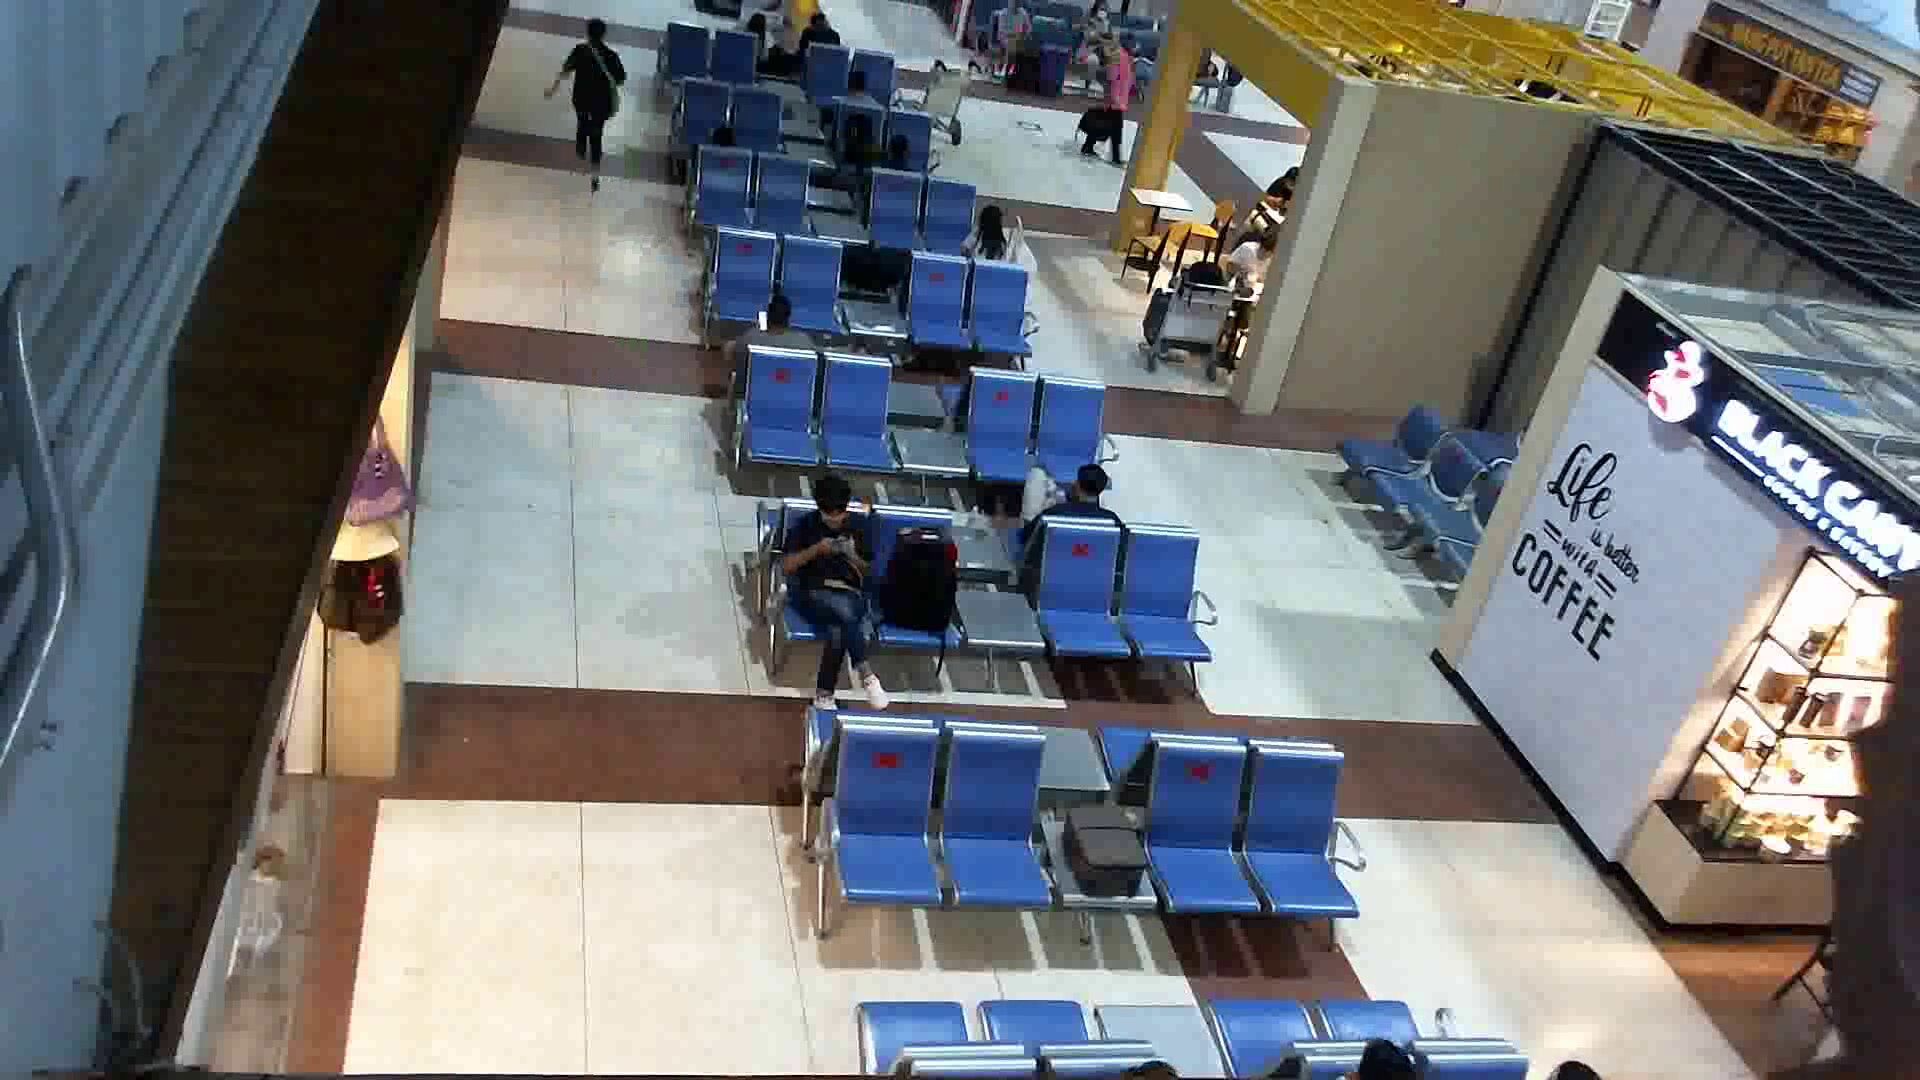bag: (1062, 91, 1126, 153)
luggage: (874, 520, 978, 657), (1057, 791, 1158, 905)
people: (778, 479, 900, 721), (549, 15, 639, 204), (1080, 27, 1141, 181)
